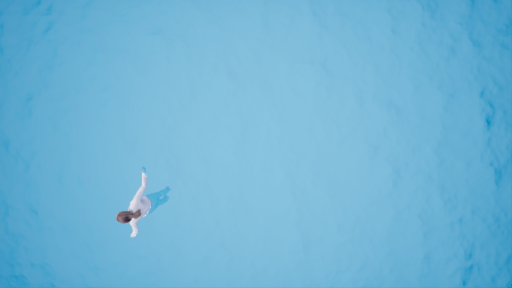person: (113, 165, 179, 238)
